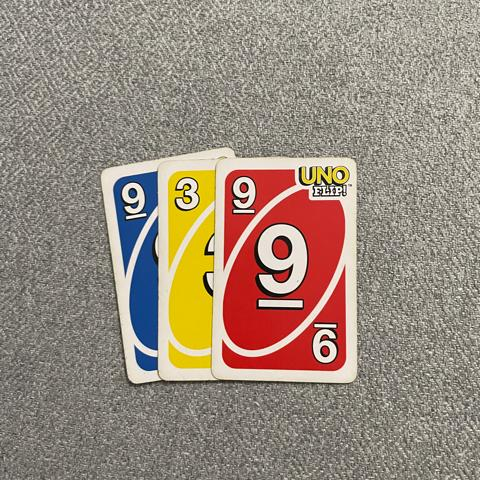lblue-9: (110, 174, 151, 225)
lred-9: (223, 167, 268, 224)
lyellow-3: (164, 170, 207, 219)
